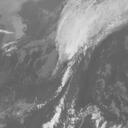cyclone: (37, 42, 89, 92)
